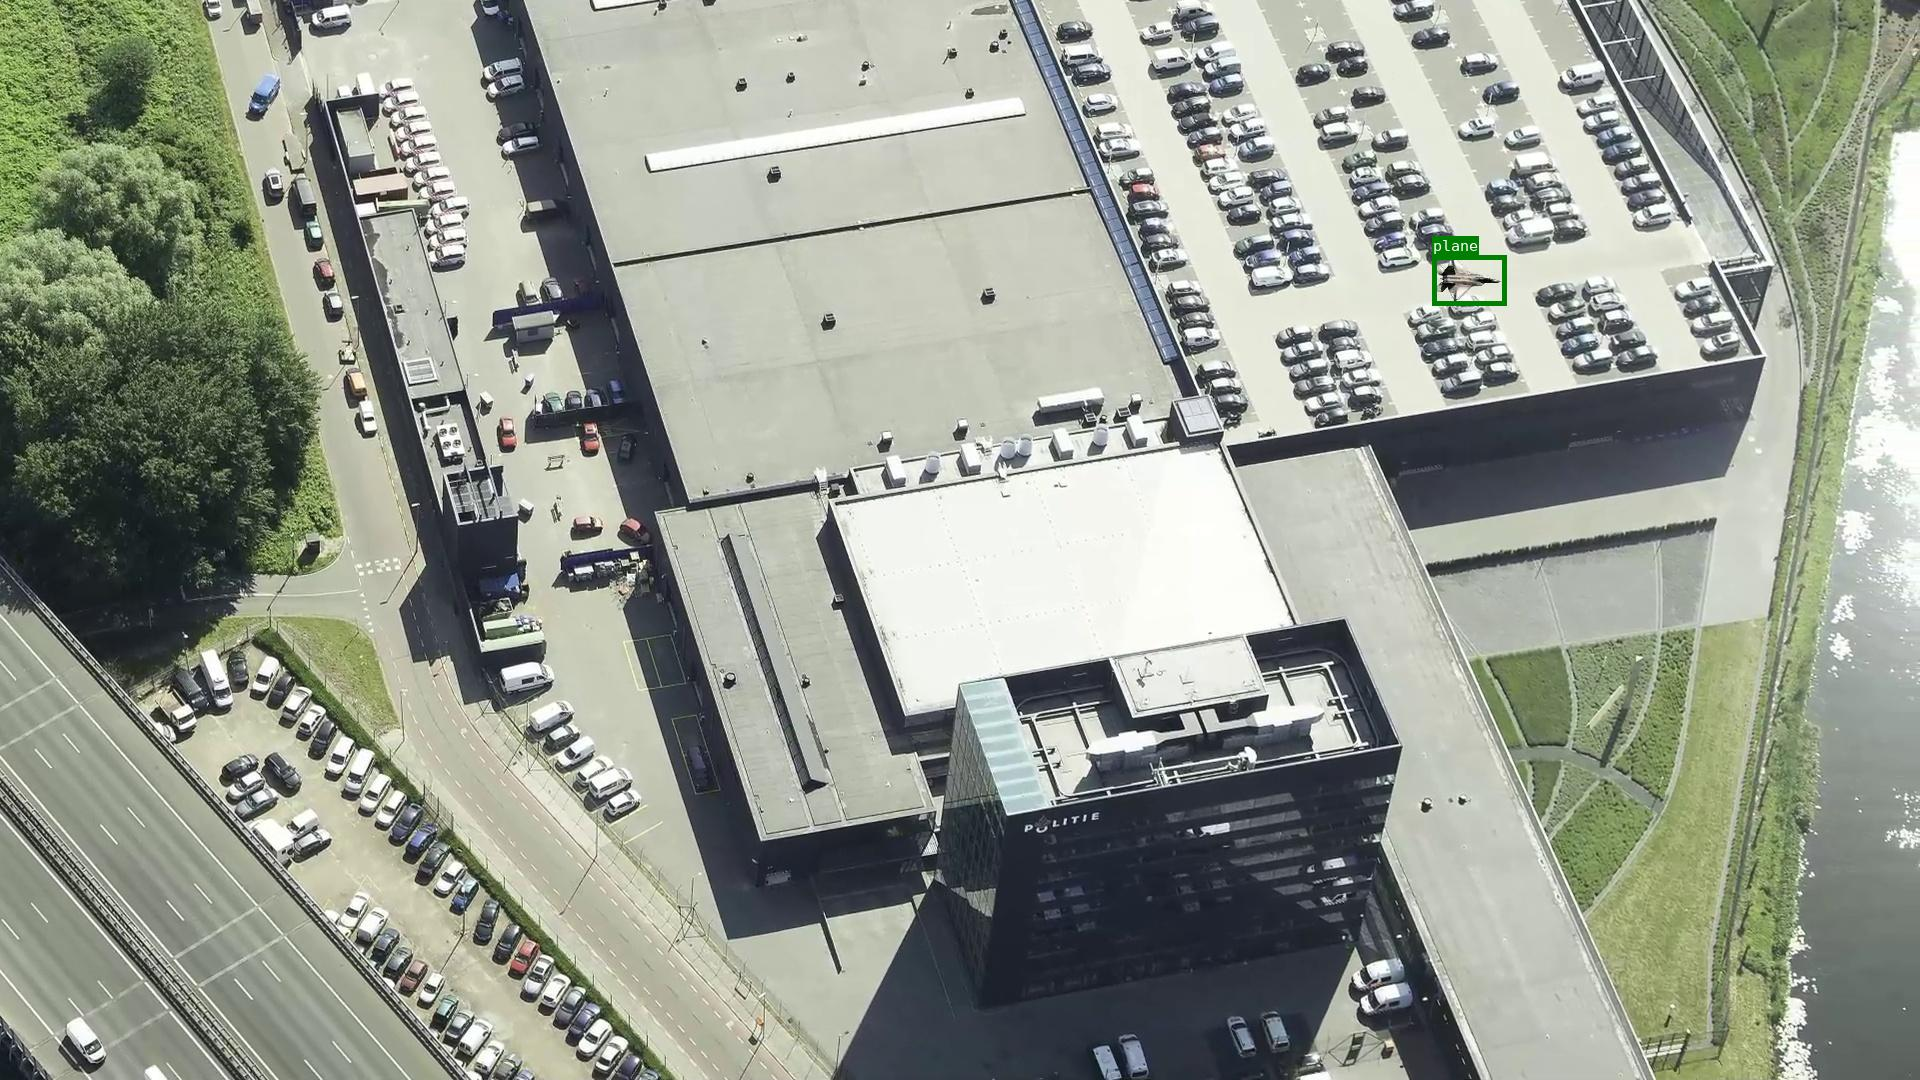plane: (1432, 255, 1506, 305)
